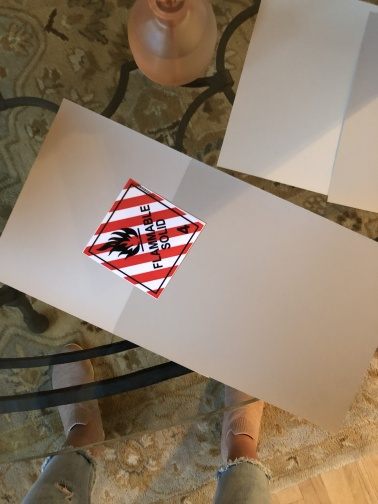FlammableSolid: (89, 179, 202, 301)
